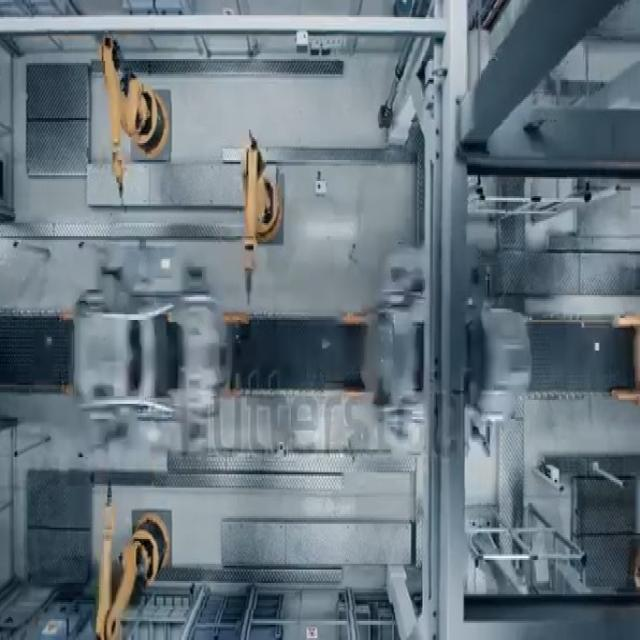auto: (60, 268, 242, 452), (350, 272, 540, 442)
robot: (86, 18, 194, 195), (90, 487, 186, 640), (227, 145, 289, 264)
